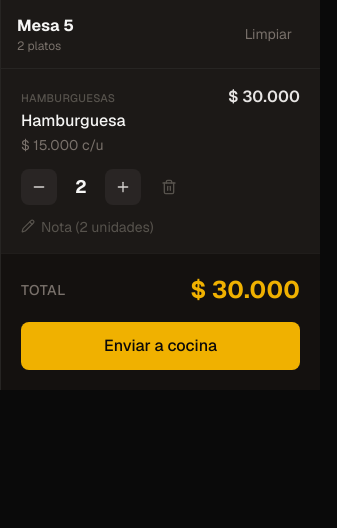
Test: OrderSummary — notes › shows single input in Todas mode for multi-unit items
The width and height of the screenshot is (337, 528).
Click the button "Nota (2 unidades)".
click(87, 227)  # box top-left (21, 217), bottom-right (154, 237)
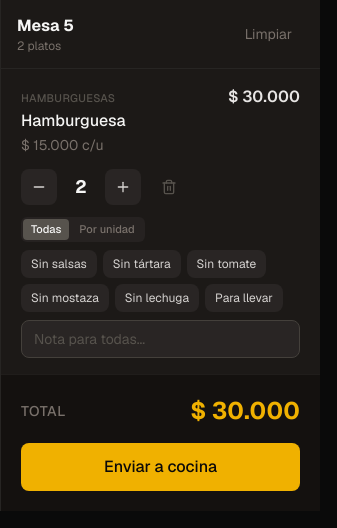
Expected: the field with placeholder "Nota para todas..." is shown, top-left (21, 320), bottom-right (300, 358)
